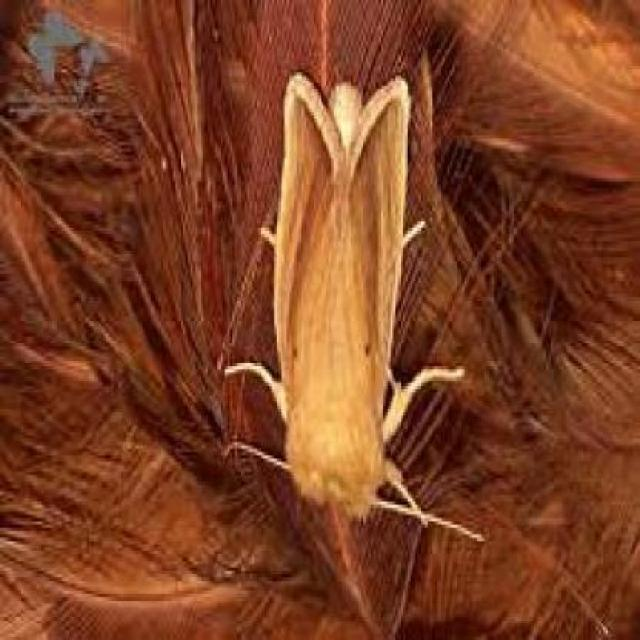stem-borer: (258, 64, 418, 530)
